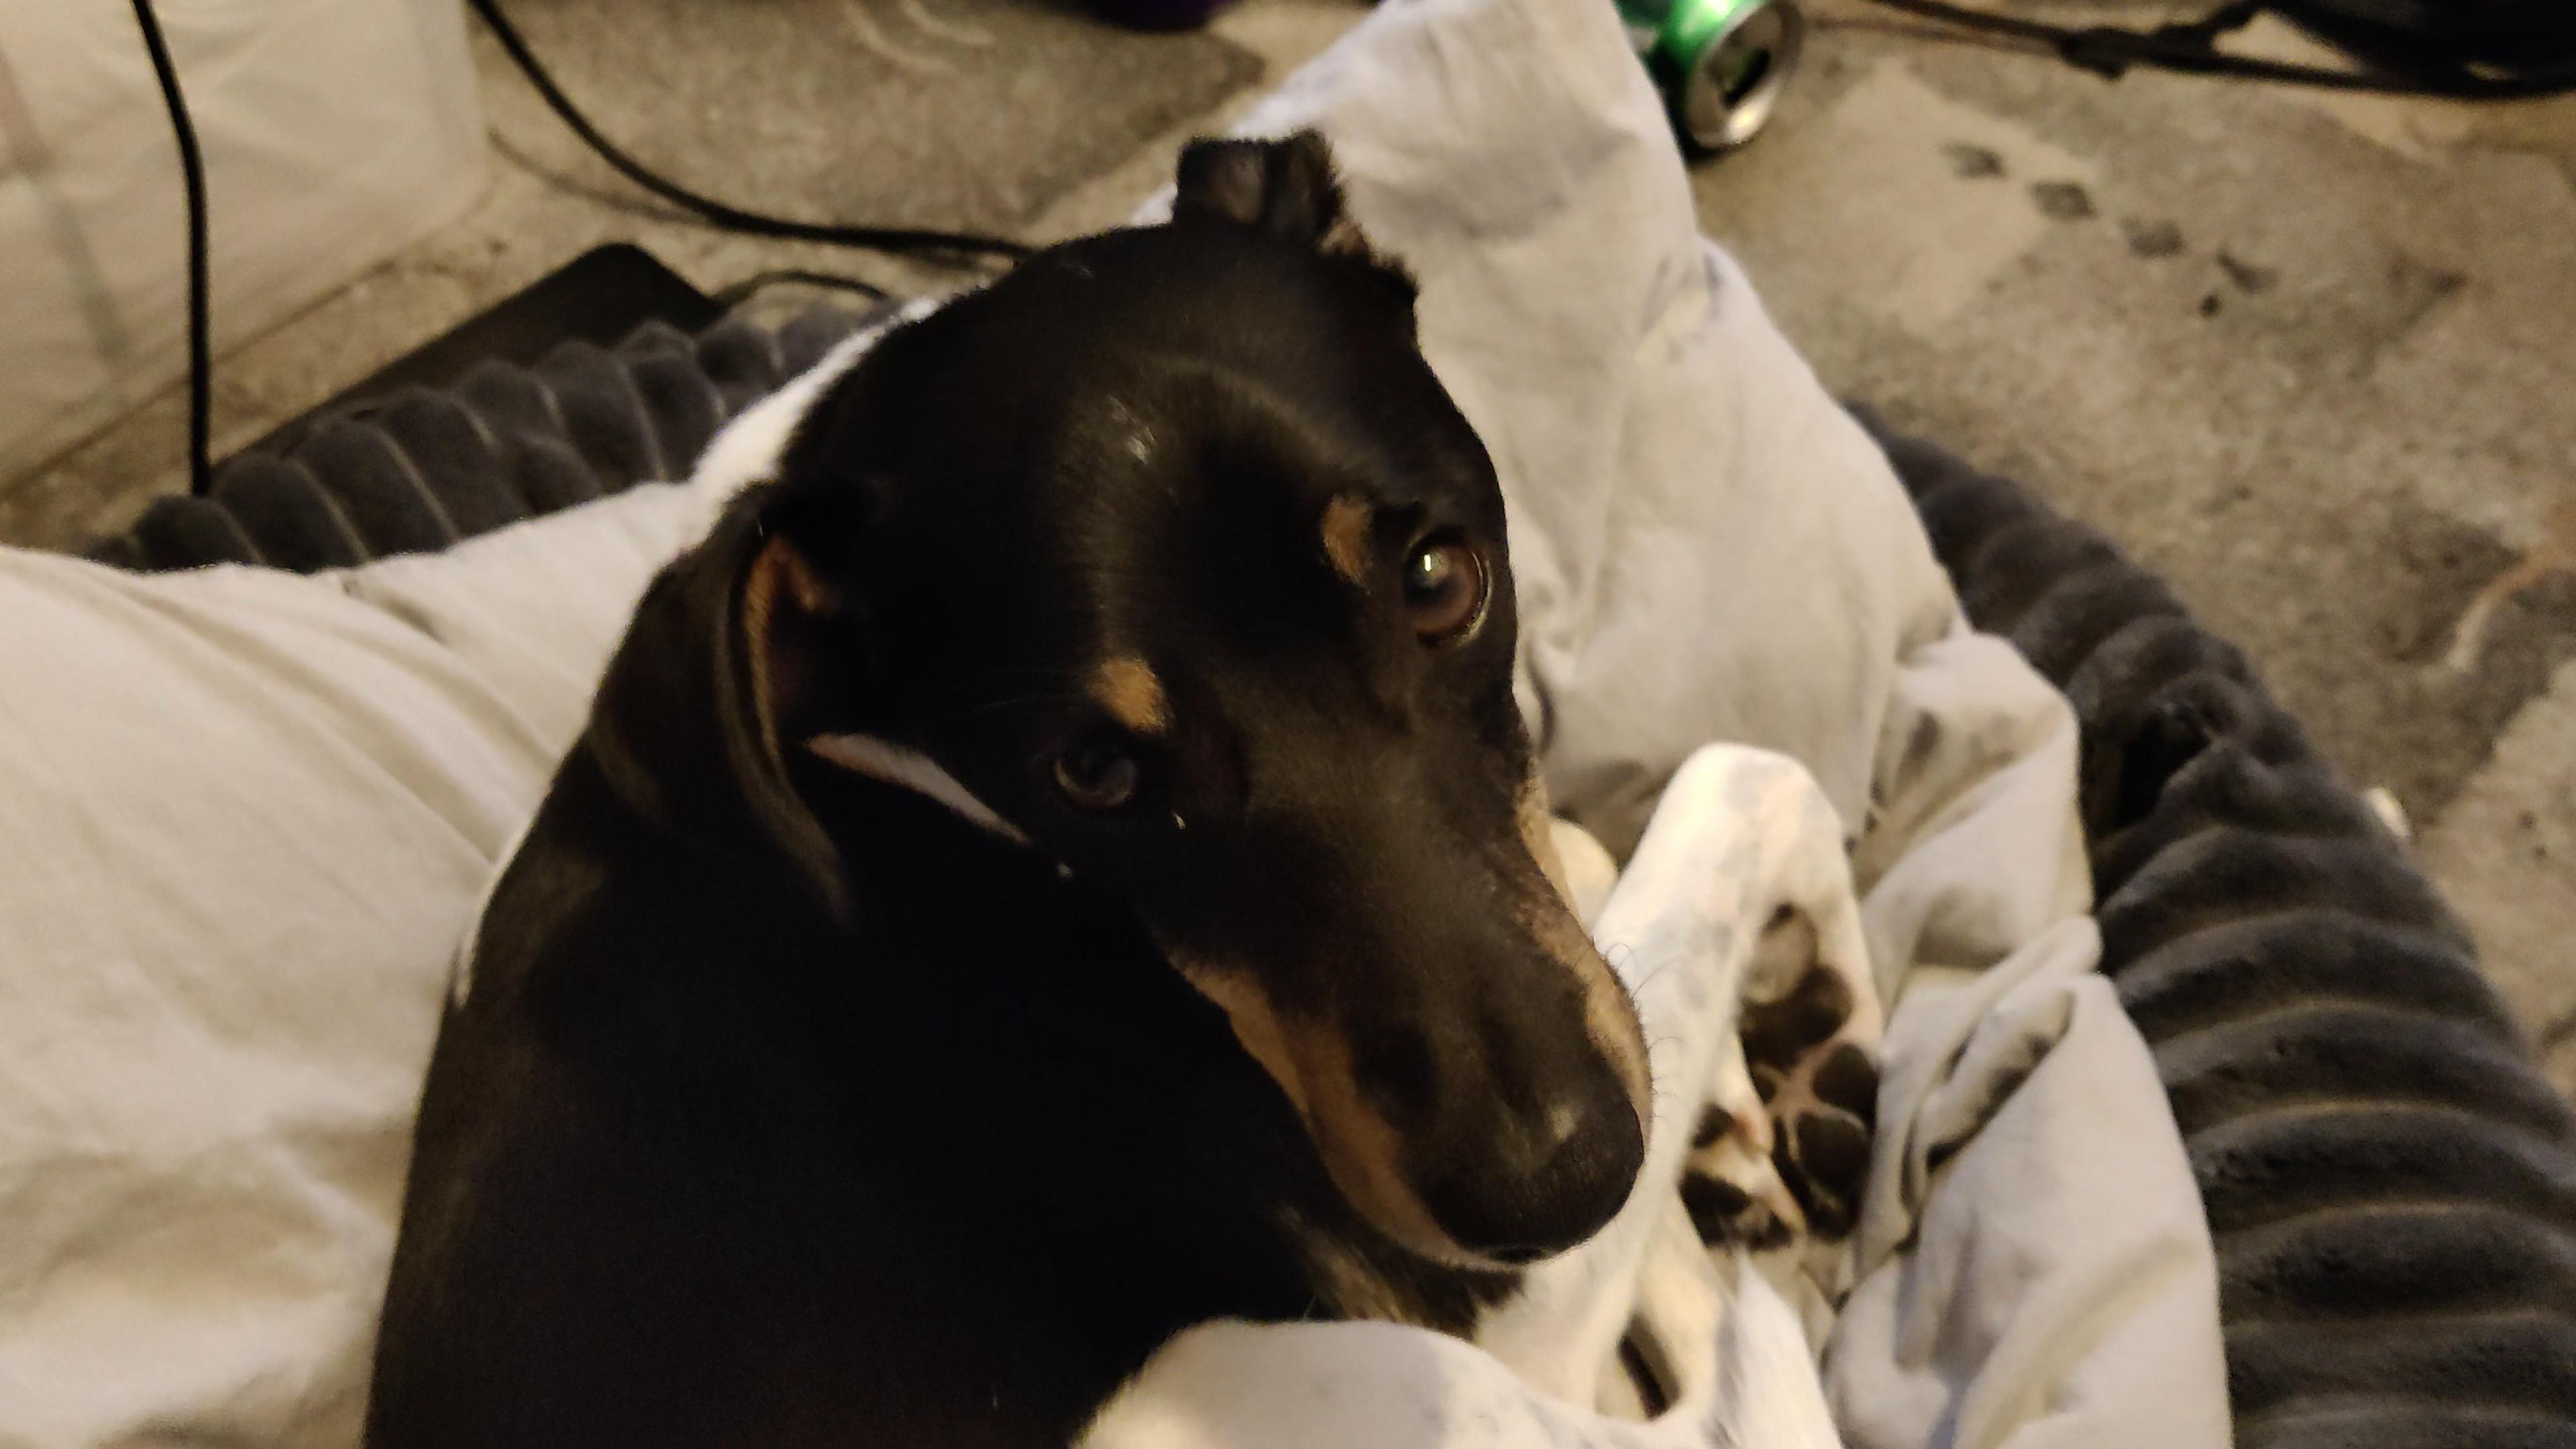Dog: (343, 113, 1914, 1449)
